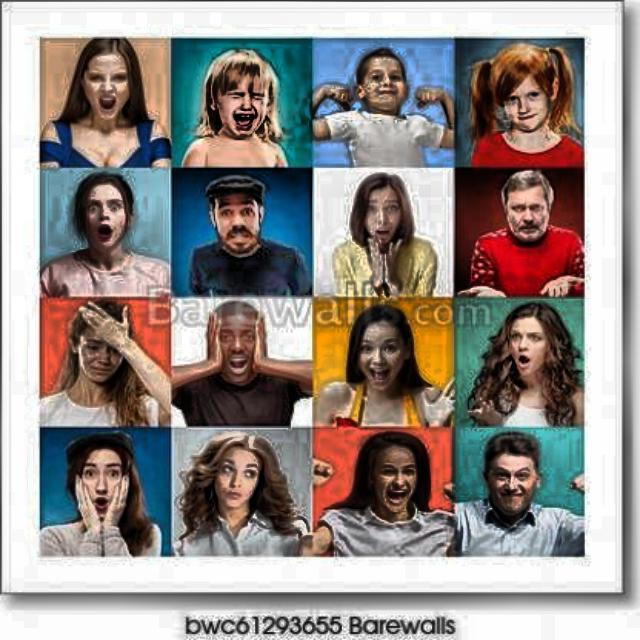angry: (67, 41, 156, 136)
fear: (185, 43, 306, 147)
happy: (470, 436, 580, 532), (339, 432, 437, 516), (327, 43, 437, 107)
neutral: (479, 48, 579, 134), (481, 168, 579, 246), (193, 443, 283, 519)
sad: (39, 293, 151, 397)
surprised: (181, 303, 299, 389), (55, 174, 164, 258), (337, 308, 432, 400), (46, 442, 147, 528), (176, 171, 285, 249), (489, 310, 582, 394), (331, 176, 434, 249)
